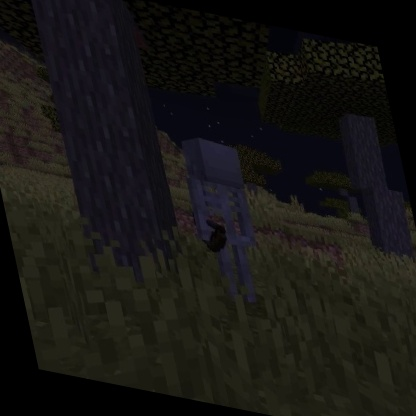skeleton: (170, 127, 278, 312)
